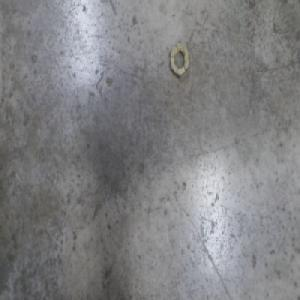Nut: (169, 36, 189, 77)
